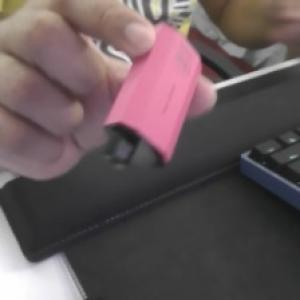Blume-E-Ciggirate: (100, 23, 204, 174)
